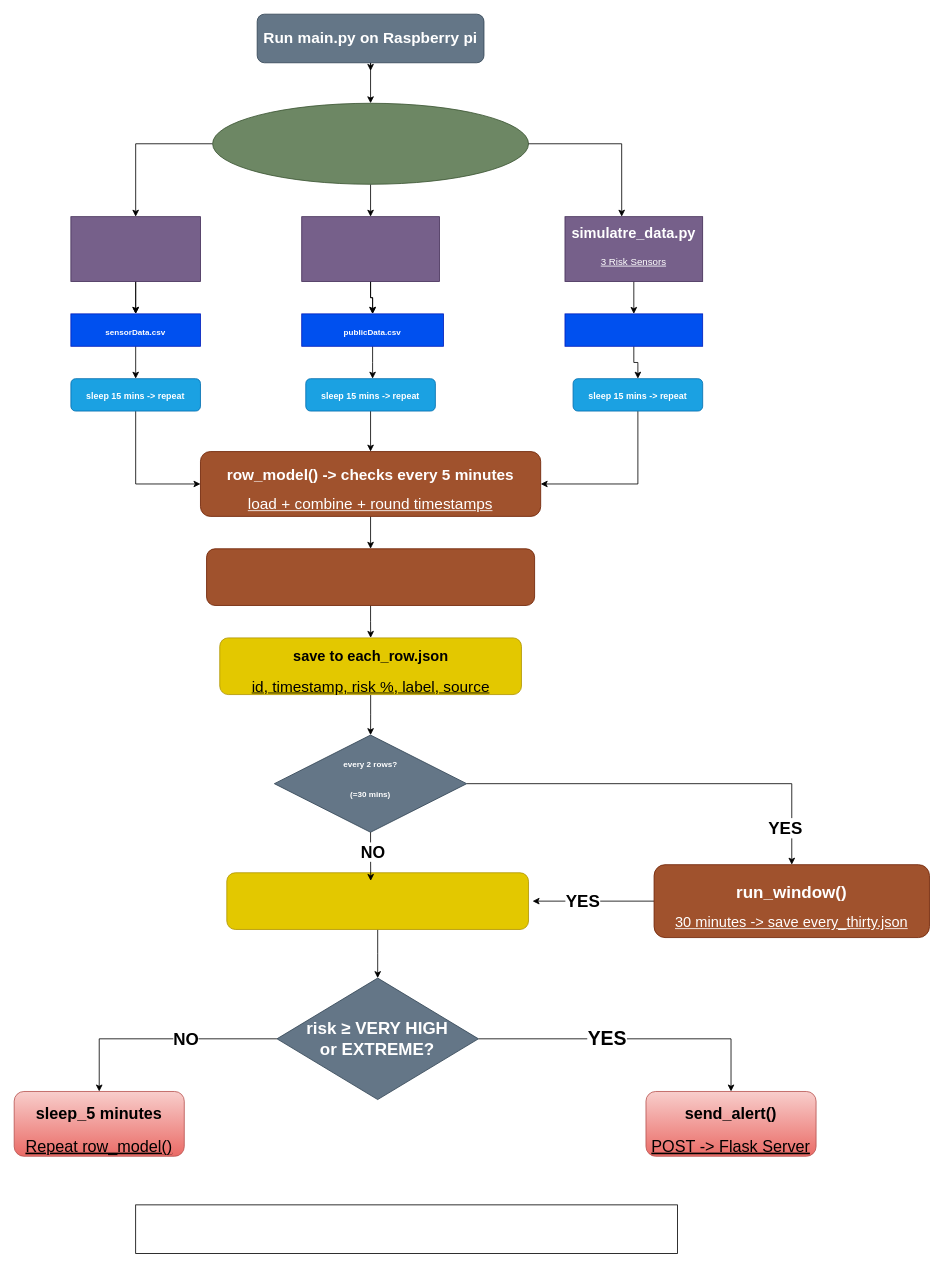
Some shapes in this 944 by 1268 pixel diagram are drawn without their labels. The shapes that lost their labels are listed below. From the top down, each one's centre as x and y in pixels, then its label:
the point at 370,143: Start 4 threads simeltaniously risk model sleeps 30 second before starting
the point at 135,248: sensor.py GPIO Sensors
the point at 370,248: public_weather.py Open-Meteo API
the point at 633,329: simulatedData.csv
the point at 370,576: calculate_risk() per new row weighted % -> get_risk_label()
the point at 377,900: what-if-scenarios drought + 8C / Wind Speed * 2
the point at 406,1228: Al processes on Raspberry Pi - Flask server on a different machine.
